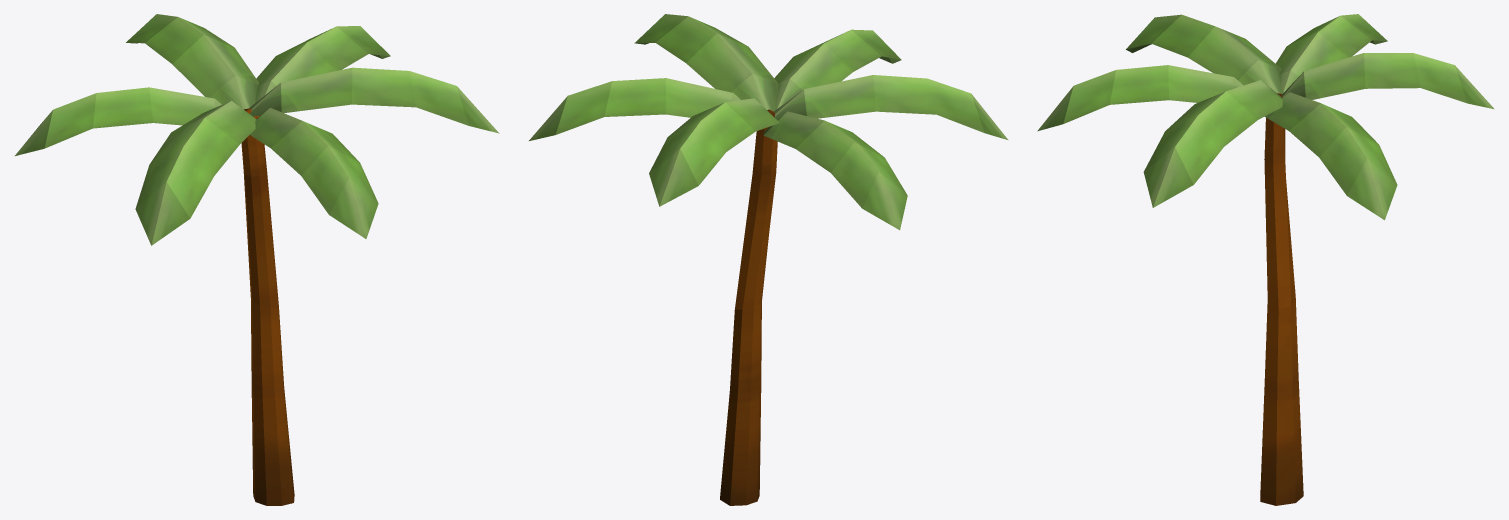
File: Palm_02.fbx
3 views of the same model, side by side, from view 1: azimuth 30°, elevation 25°; view 2: azimuth 150°, elevation 25°; view 3: azimuth 270°, elevation 25° (orthographic).
Visible parts, largest first — view 1: Palm_02; view 2: Palm_02; view 3: Palm_02.
Part boxes in pixels (left/top/right/bottom): Palm_02: left=15, top=14, right=499, bottom=505; Palm_02: left=529, top=14, right=1008, bottom=505; Palm_02: left=1037, top=14, right=1494, bottom=505.
Bounding box in the file's own units: 353 × 397 × 382.
2 materials, 2 textured.
